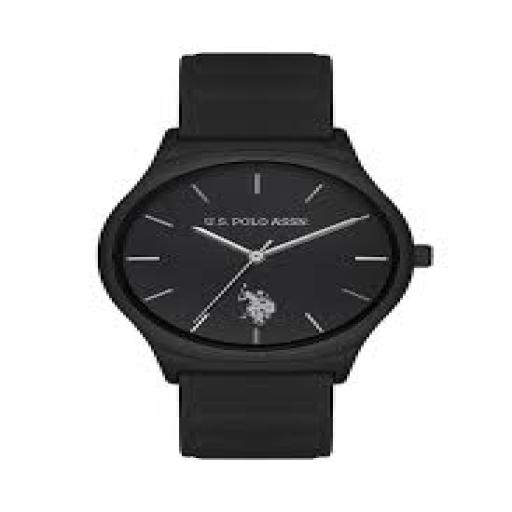KolSaati: (86, 32, 440, 466)
